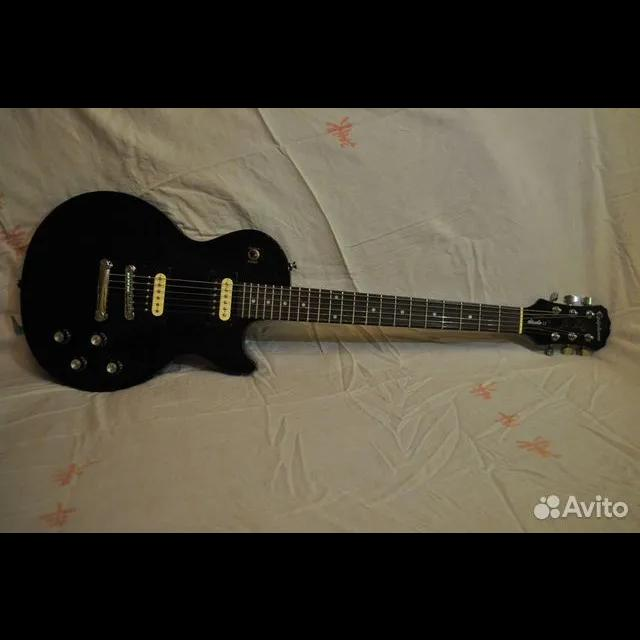Electric-Guitar: (20, 192, 610, 390)
